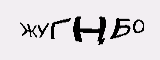Б: (111, 18, 131, 40)
Г: (50, 17, 72, 40)
Ж: (18, 21, 38, 39)
О: (131, 16, 147, 35)
У: (36, 22, 50, 38)
Ң: (72, 15, 109, 45)
